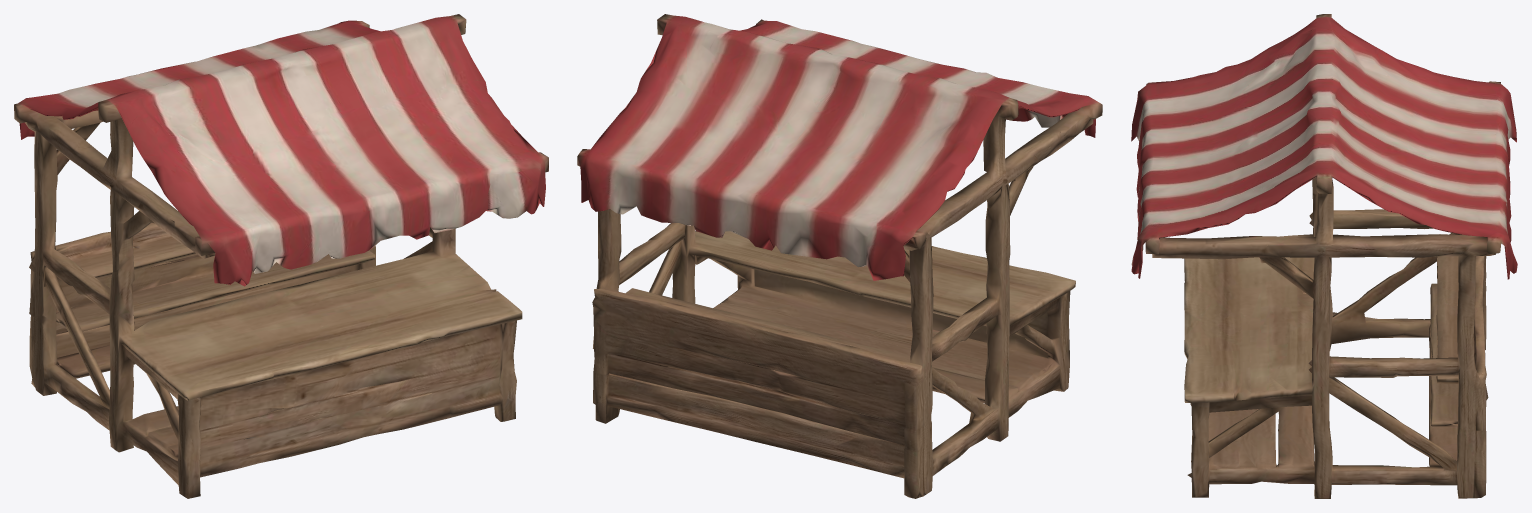
File: market_stall_a.glb
3 views of the same model, side by side, from view 1: azimuth 30°, elevation 25°; view 2: azimuth 150°, elevation 25°; view 3: azimuth 270°, elevation 25° (orthographic). The views are drawn at different scales.
Parts seen in each view (by area): view 1: tripo_node_84ed0a61-ea9b-41b5-8b0d-6435ac04326e; view 2: tripo_node_84ed0a61-ea9b-41b5-8b0d-6435ac04326e; view 3: tripo_node_84ed0a61-ea9b-41b5-8b0d-6435ac04326e.
Part boxes in pixels (box(x1,y1,x2,y2)): tripo_node_84ed0a61-ea9b-41b5-8b0d-6435ac04326e: box(14, 14, 548, 498); tripo_node_84ed0a61-ea9b-41b5-8b0d-6435ac04326e: box(577, 14, 1102, 498); tripo_node_84ed0a61-ea9b-41b5-8b0d-6435ac04326e: box(1131, 14, 1517, 498).
Size of the model in its own units: 1 by 0.9178 by 0.9778.
Materials: 1 (1 with a texture image).
